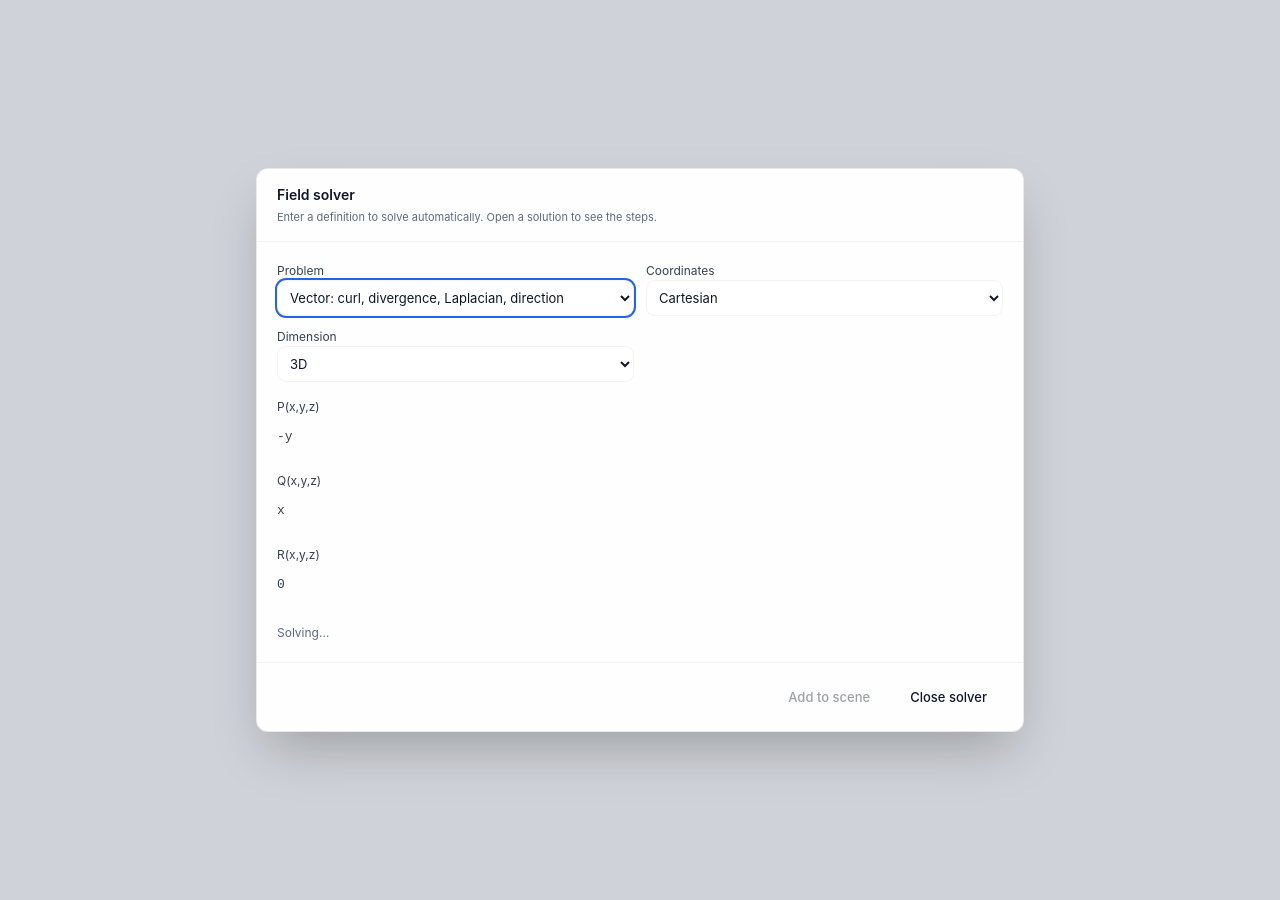
automatic solution UI › solves polar inputs, preserves drafts on switching, and displays steps in the solver overlay
Select "Polar (r, θ)" in the dropdown named "Field coordinates" at (824, 298), box [646,280,1003,316]
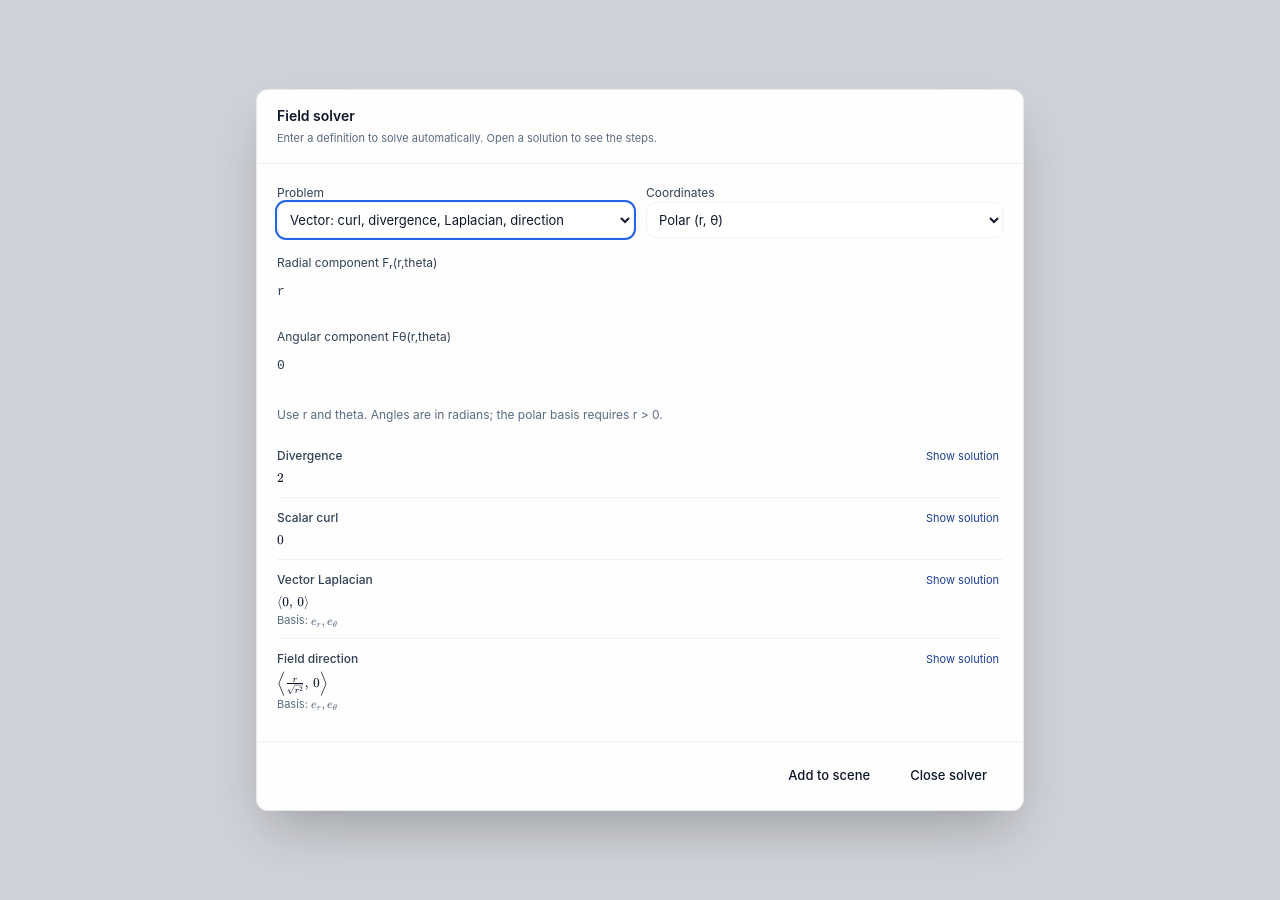
Expected: the element with test id "symbolic-divergence" reads "2", [277,470,284,486]
Replace the text in the field labelled "Radial component Fᵣ(r,theta)" with "2*r" at (618, 292), box [277,276,959,308]
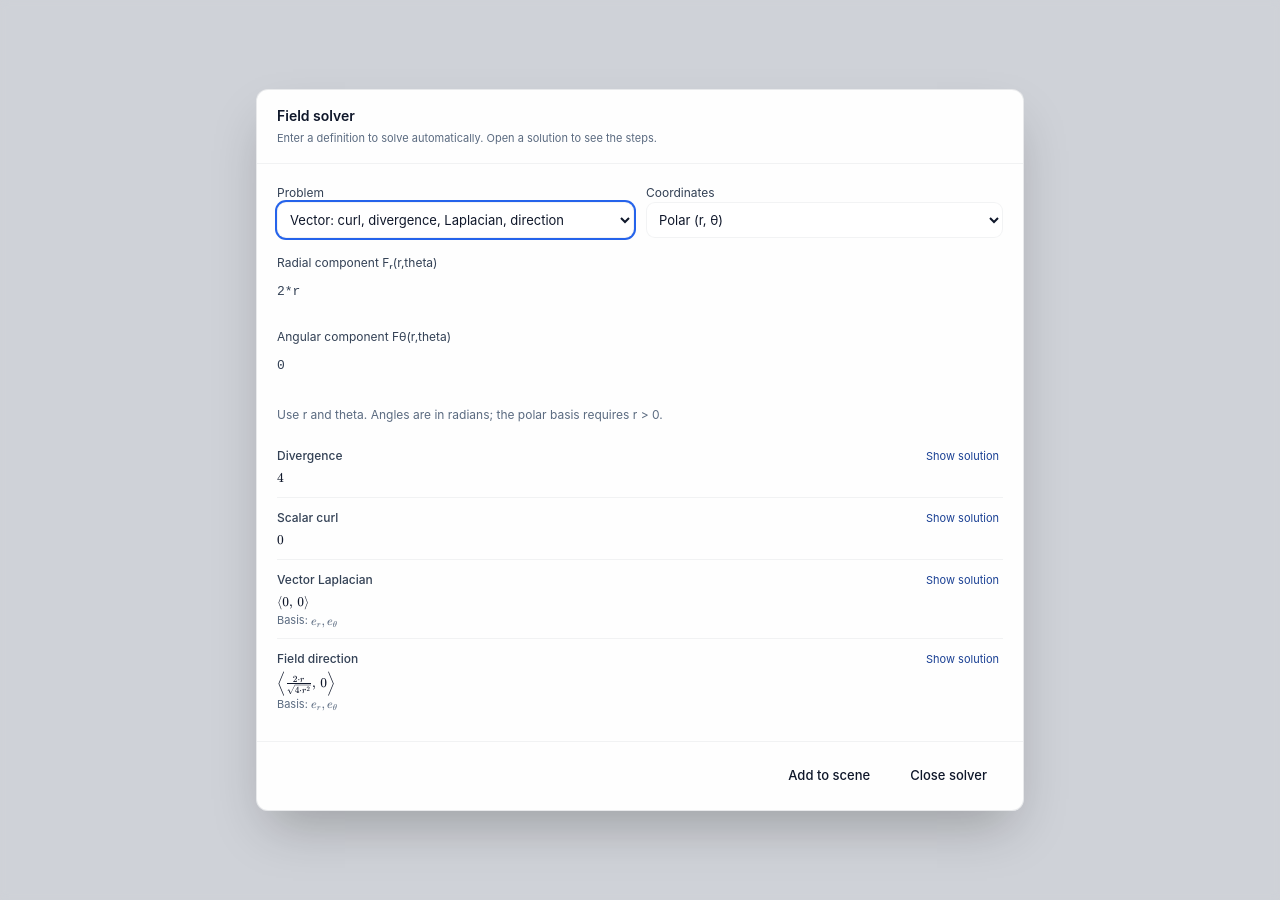
Expected: the element with test id "symbolic-divergence" reads "4", [277,470,284,486]
Click the button with aria-label "Show divergence solution" at (962, 456), box [922,444,1003,468]
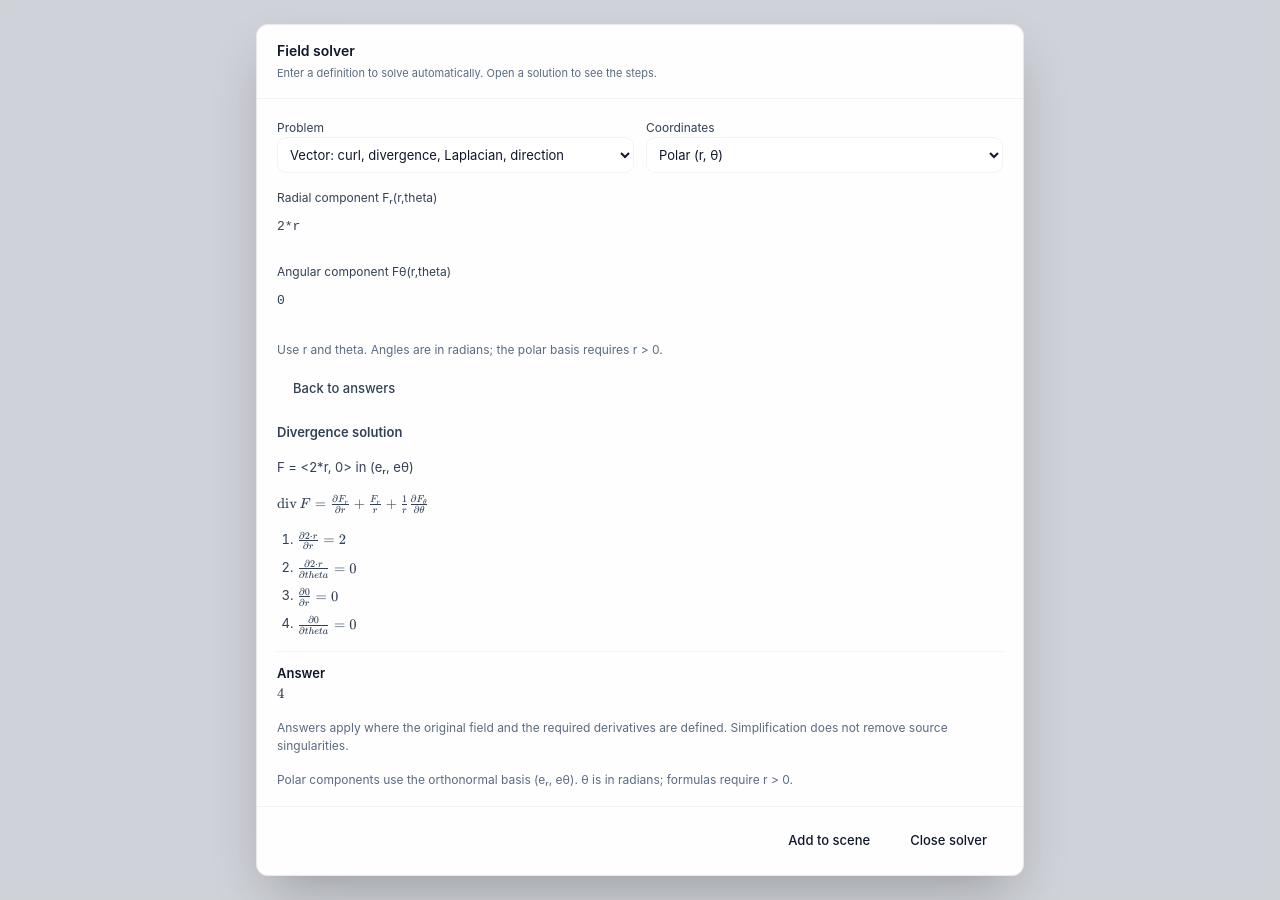
Expected: the number of dialogs is 1, [256,24,1024,876]
Expected: the element with test id "solution-final-answer" reads "4", [277,685,284,702]
Click the button "Back to answers" at (344, 388), box [277,370,411,406]
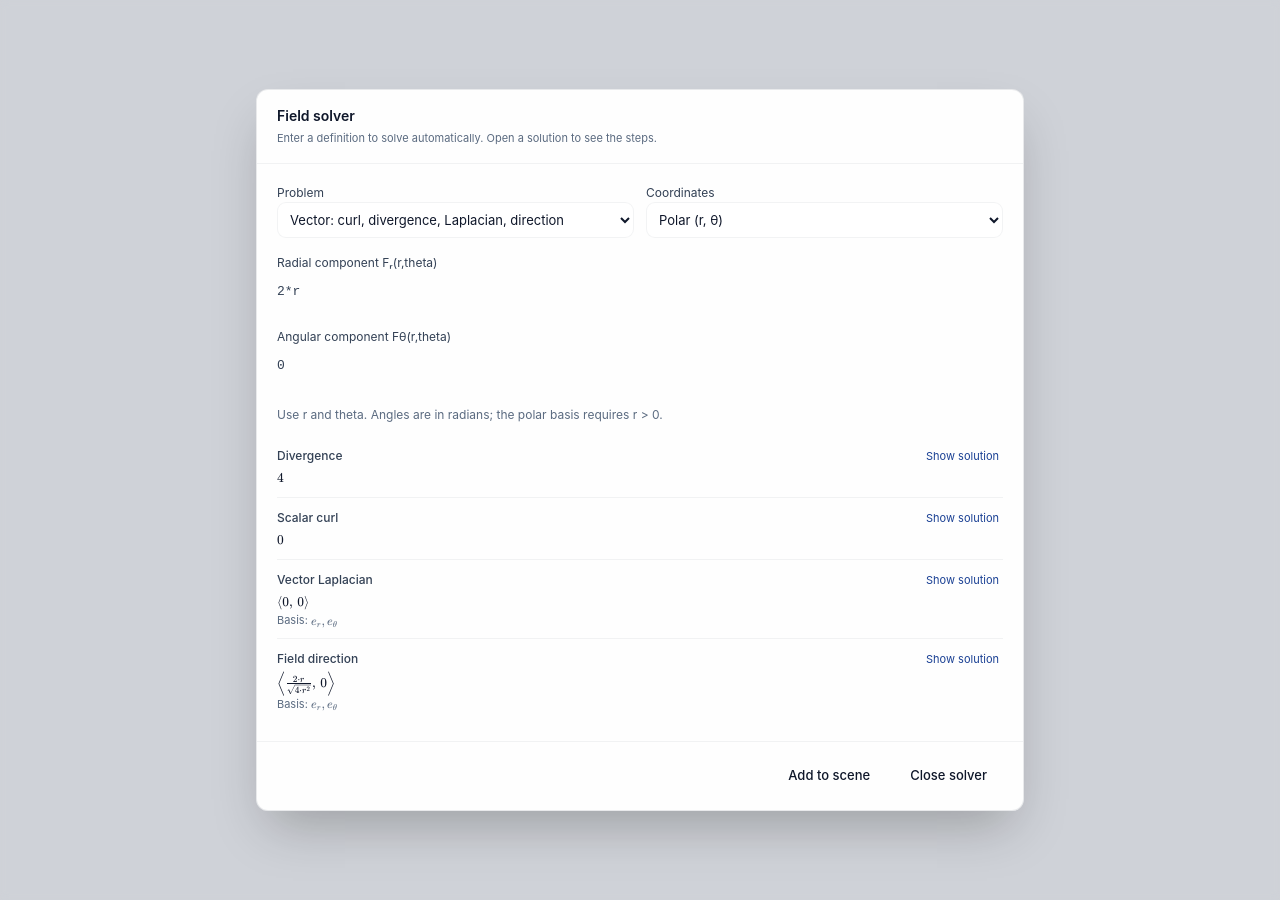
Select "Cartesian" in the dropdown named "Field coordinates" at (824, 220), box [646,202,1003,238]
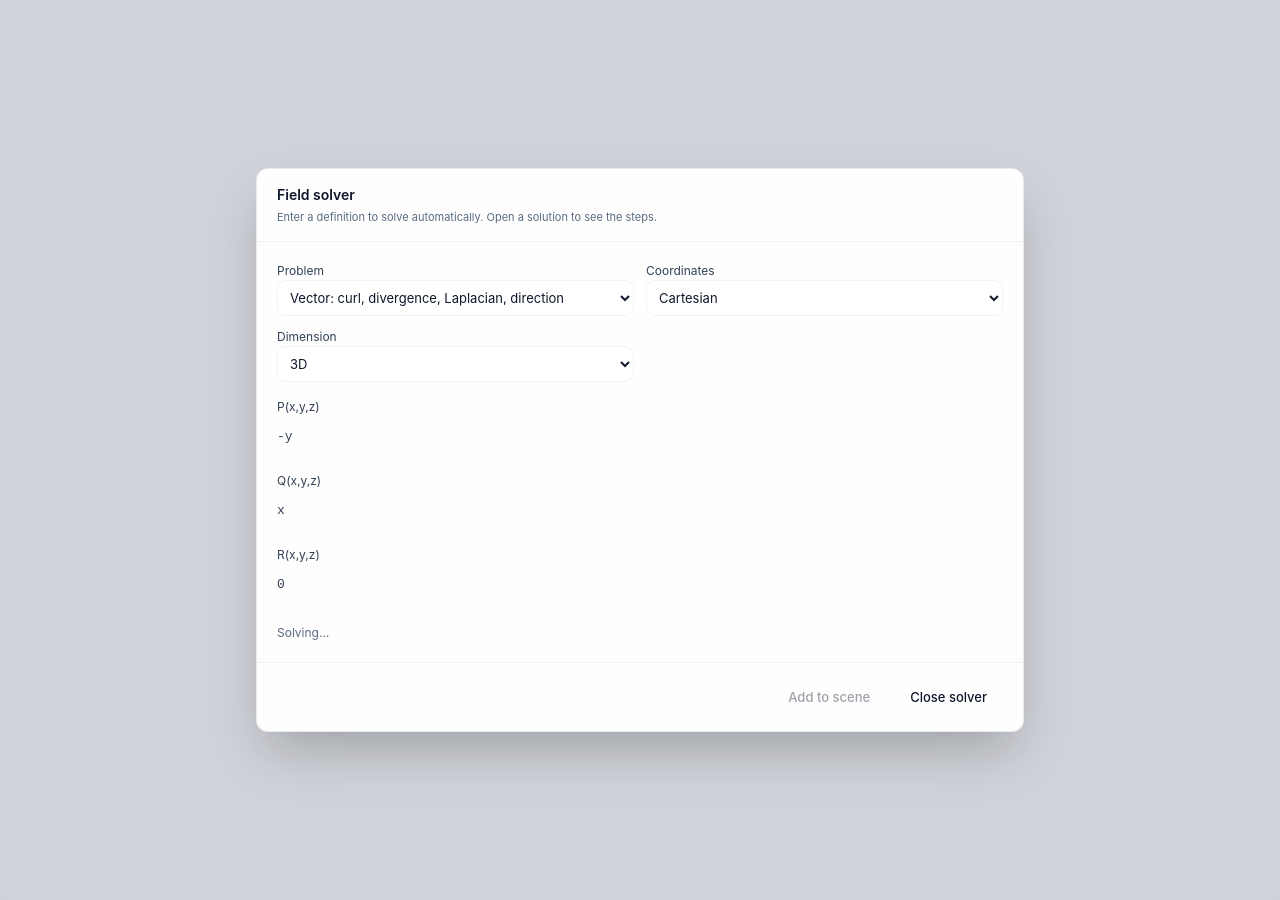
Select "Polar (r, θ)" in the dropdown named "Field coordinates" at (824, 298), box [646,280,1003,316]
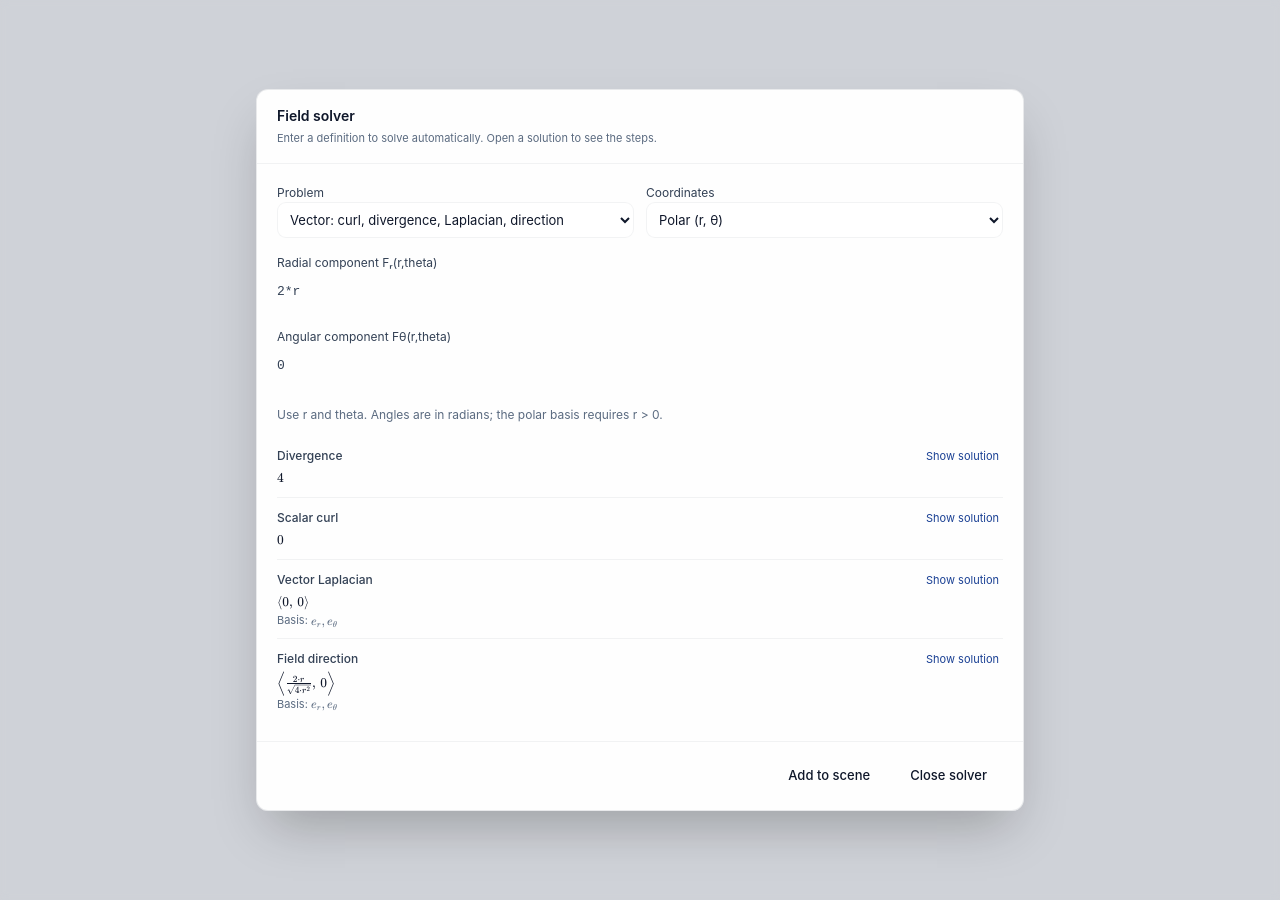
Expected: the field labelled "Radial component Fᵣ(r,theta)" holds "2*r", [277,276,959,308]
